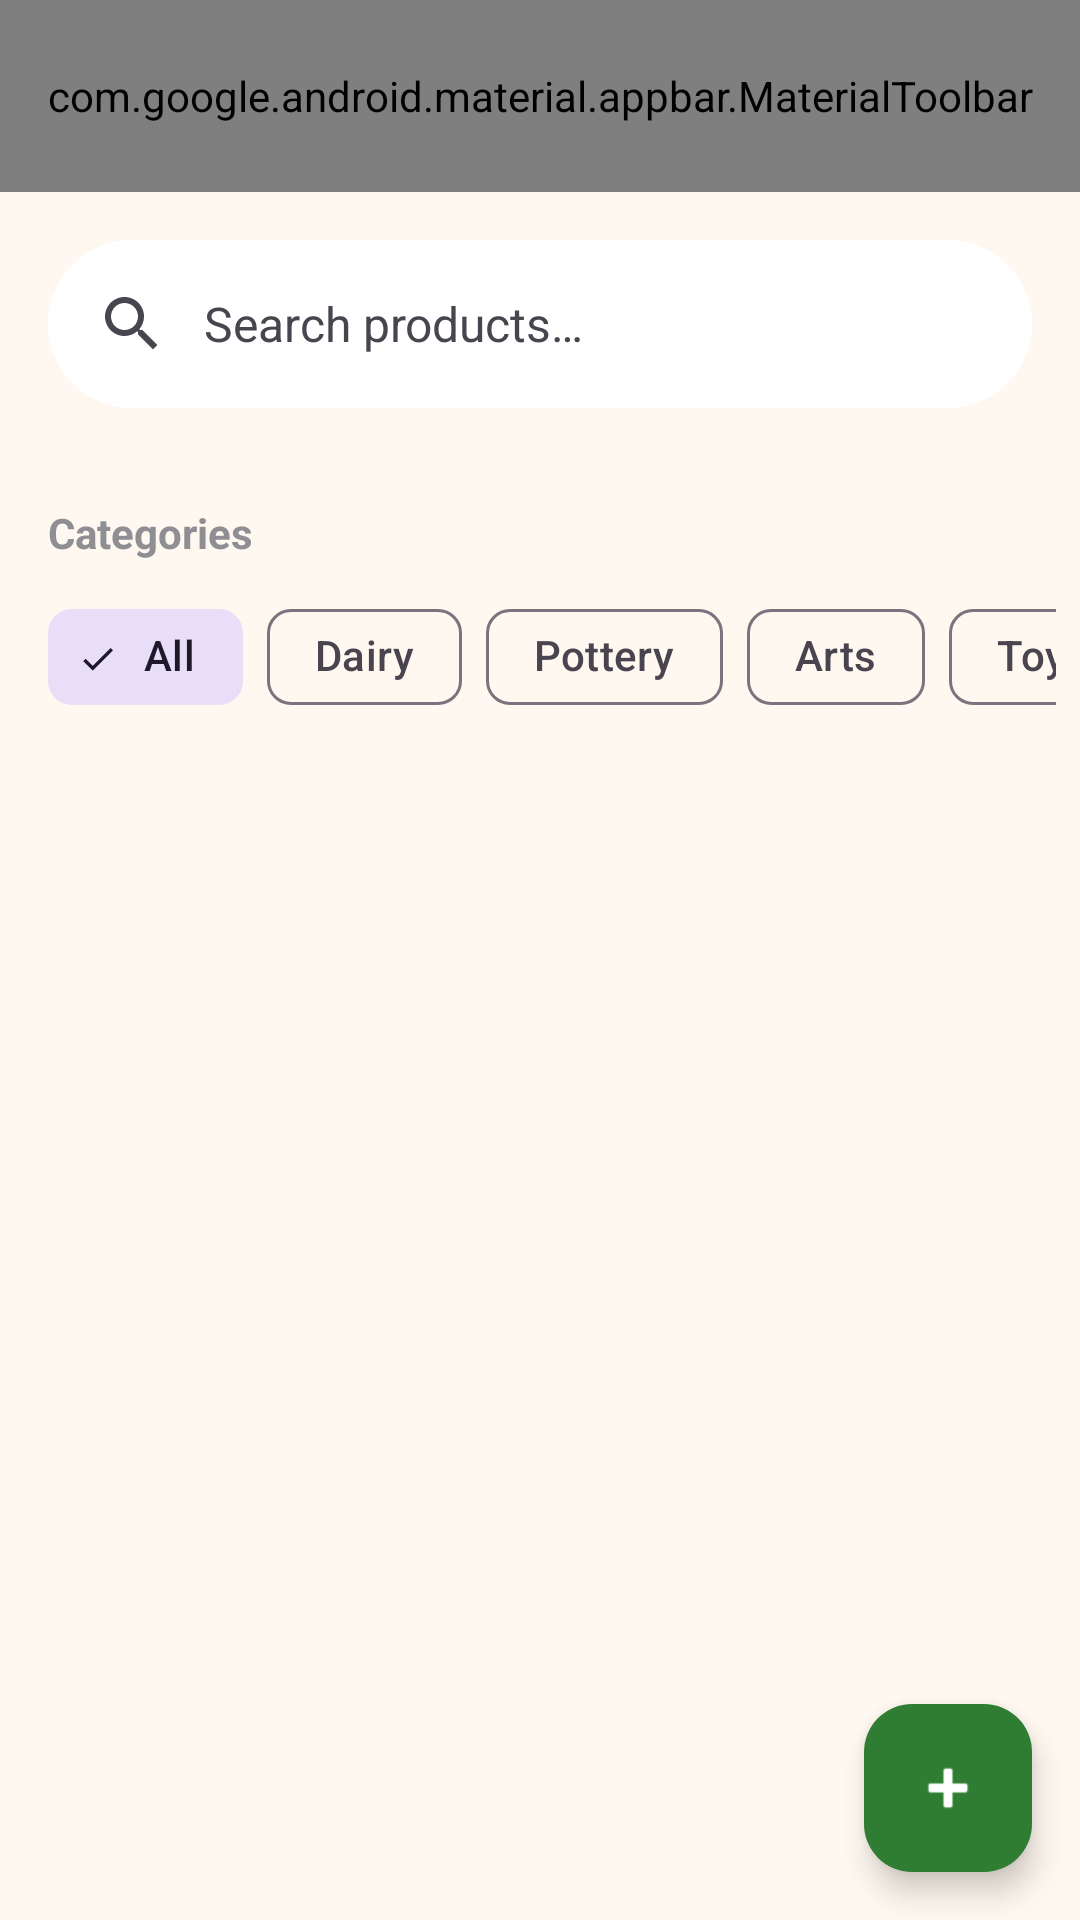

Icons on this 1080×1920 Android screen, each with its box as (x1, y1, x2, y2):
Add Product: (864, 1704, 1032, 1872)
